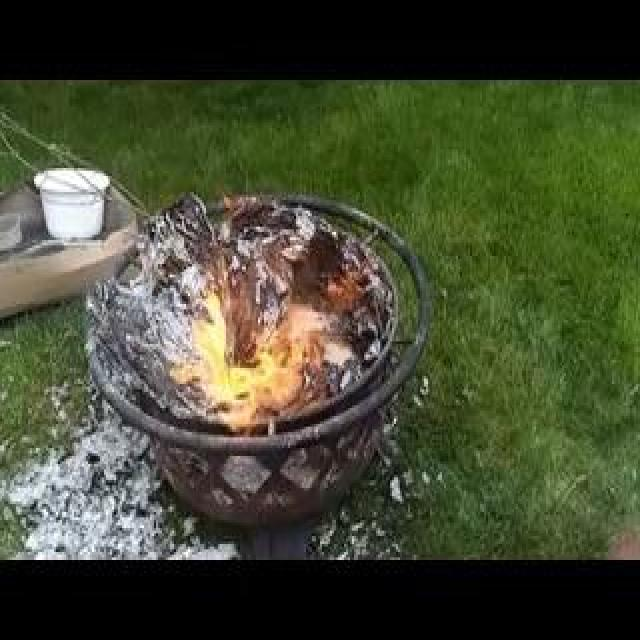Fire: (144, 158, 263, 344)
